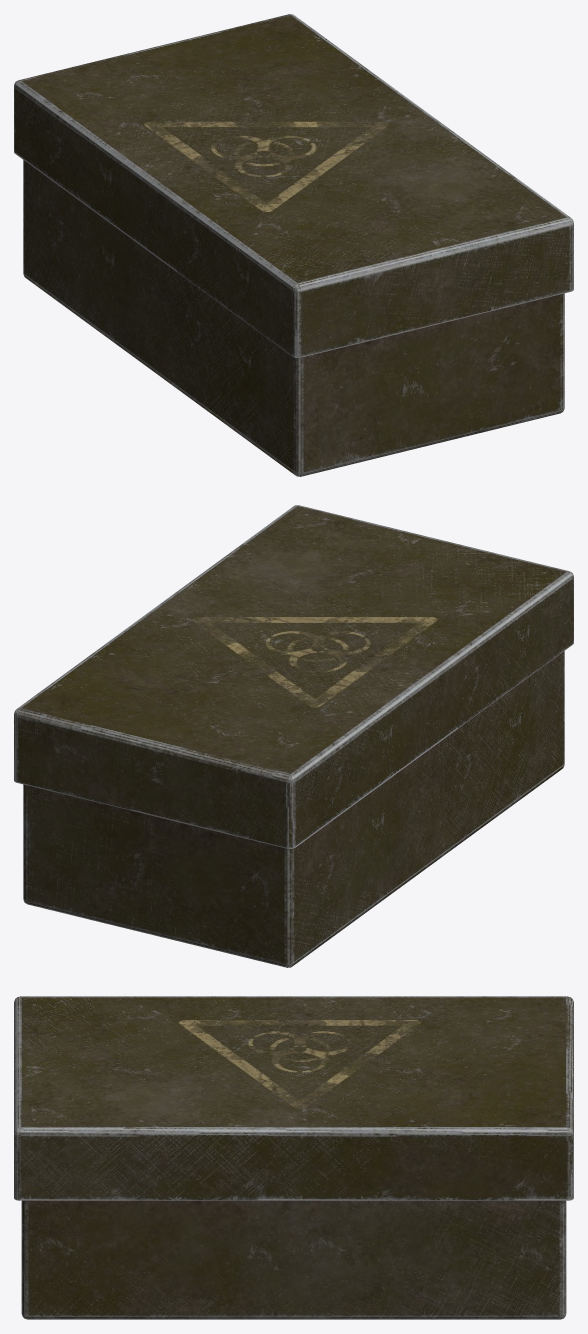
3 renders of one model, top to bottom at view 1: azimuth 30°, elevation 25°; view 2: azimuth 150°, elevation 25°; view 3: azimuth 270°, elevation 25°, orthographic.
Parts seen in each view (by area): view 1: Cube; view 2: Cube; view 3: Cube.
Boxes of the visible parts, bbox=[...] form: Cube: bbox=[14, 14, 573, 476]; Cube: bbox=[14, 505, 573, 967]; Cube: bbox=[14, 996, 573, 1319].
Size of the model in its own units: 2.08 by 1.39 by 3.64.
1 material, 1 textured.
